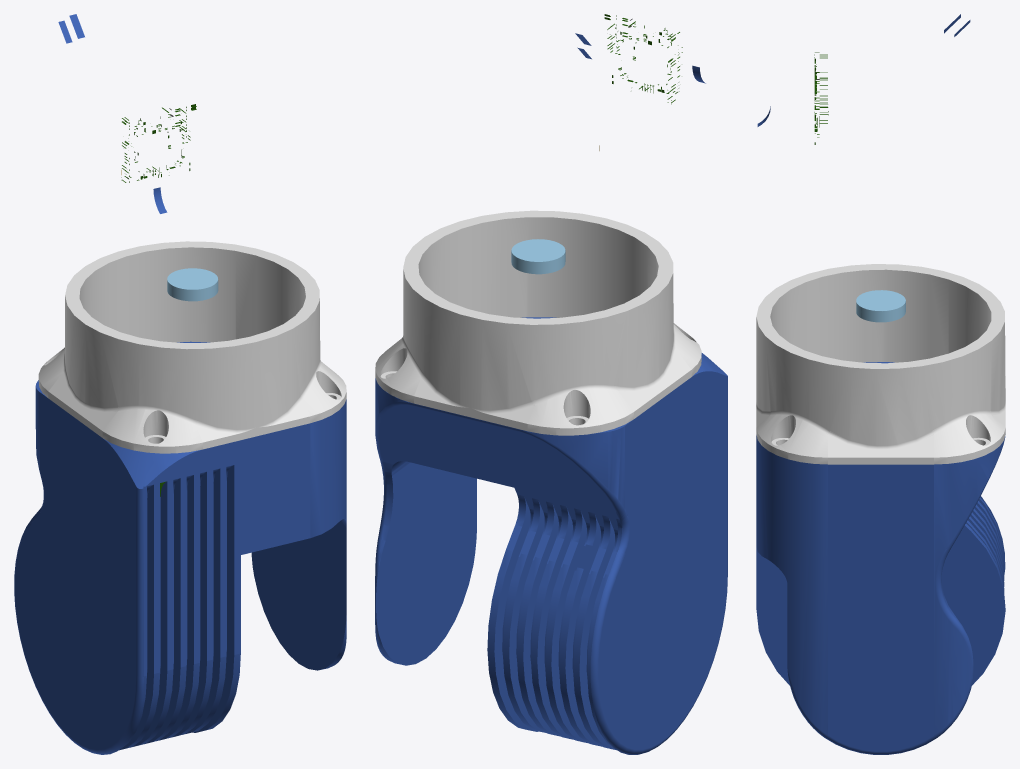
Rendered from R_Shoulder_Pitch_Assy.obj.
3 renders of one model, left to right at view 1: azimuth 30°, elevation 25°; view 2: azimuth 150°, elevation 25°; view 3: azimuth 270°, elevation 25°, orthographic. The views are drawn at different scales.
Visible parts, largest first — view 1: mesh193, mesh5, mesh4, mesh185, mesh170, mesh264, mesh3, mesh174, mesh28, mesh201, mesh211, mesh255 (+14 smaller); view 2: mesh193, mesh5, mesh4, mesh170, mesh251, mesh3, mesh35, mesh194, mesh180, mesh201, mesh221, mesh241 (+21 smaller); view 3: mesh176, mesh5, mesh4, mesh174, mesh187, mesh175, mesh3, mesh12, mesh19, mesh17, mesh16, mesh0 (+7 smaller).
Boxes of the visible parts, left/top/right/bottom form: mesh193: left=15, top=392, right=136, bottom=749; mesh5: left=65, top=296, right=320, bottom=429; mesh4: left=79, top=247, right=305, bottom=342; mesh185: left=146, top=423, right=310, bottom=654; mesh170: left=251, top=520, right=346, bottom=670; mesh264: left=143, top=467, right=226, bottom=676; mesh3: left=65, top=241, right=319, bottom=349; mesh174: left=310, top=399, right=346, bottom=537; mesh28: left=103, top=409, right=202, bottom=446; mesh201: left=192, top=465, right=234, bottom=732; mesh211: left=186, top=468, right=220, bottom=733; mesh255: left=133, top=481, right=167, bottom=746; mesh193: left=598, top=371, right=726, bottom=749; mesh5: left=403, top=269, right=673, bottom=410; mesh4: left=418, top=217, right=658, bottom=317; mesh170: left=376, top=462, right=476, bottom=665; mesh251: left=379, top=405, right=618, bottom=530; mesh3: left=403, top=210, right=673, bottom=324; mesh35: left=528, top=389, right=633, bottom=428; mesh194: left=590, top=575, right=727, bottom=754; mesh180: left=526, top=431, right=608, bottom=488; mesh201: left=494, top=497, right=538, bottom=731; mesh221: left=523, top=505, right=560, bottom=736; mesh241: left=551, top=512, right=588, bottom=743; mesh176: left=828, top=464, right=933, bottom=751; mesh5: left=756, top=317, right=1005, bottom=445; mesh4: left=770, top=269, right=991, bottom=362; mesh174: left=756, top=435, right=827, bottom=734; mesh187: left=756, top=525, right=1005, bottom=685; mesh175: left=934, top=437, right=1005, bottom=734; mesh3: left=756, top=264, right=1004, bottom=368; mesh12: left=934, top=414, right=1005, bottom=457; mesh19: left=756, top=414, right=827, bottom=457; mesh17: left=828, top=435, right=933, bottom=457; mesh16: left=828, top=457, right=933, bottom=464; mesh0: left=856, top=290, right=905, bottom=310.
Size of what is drawn, in the model's own units: 0.106 by 0.2995 by 0.1.
